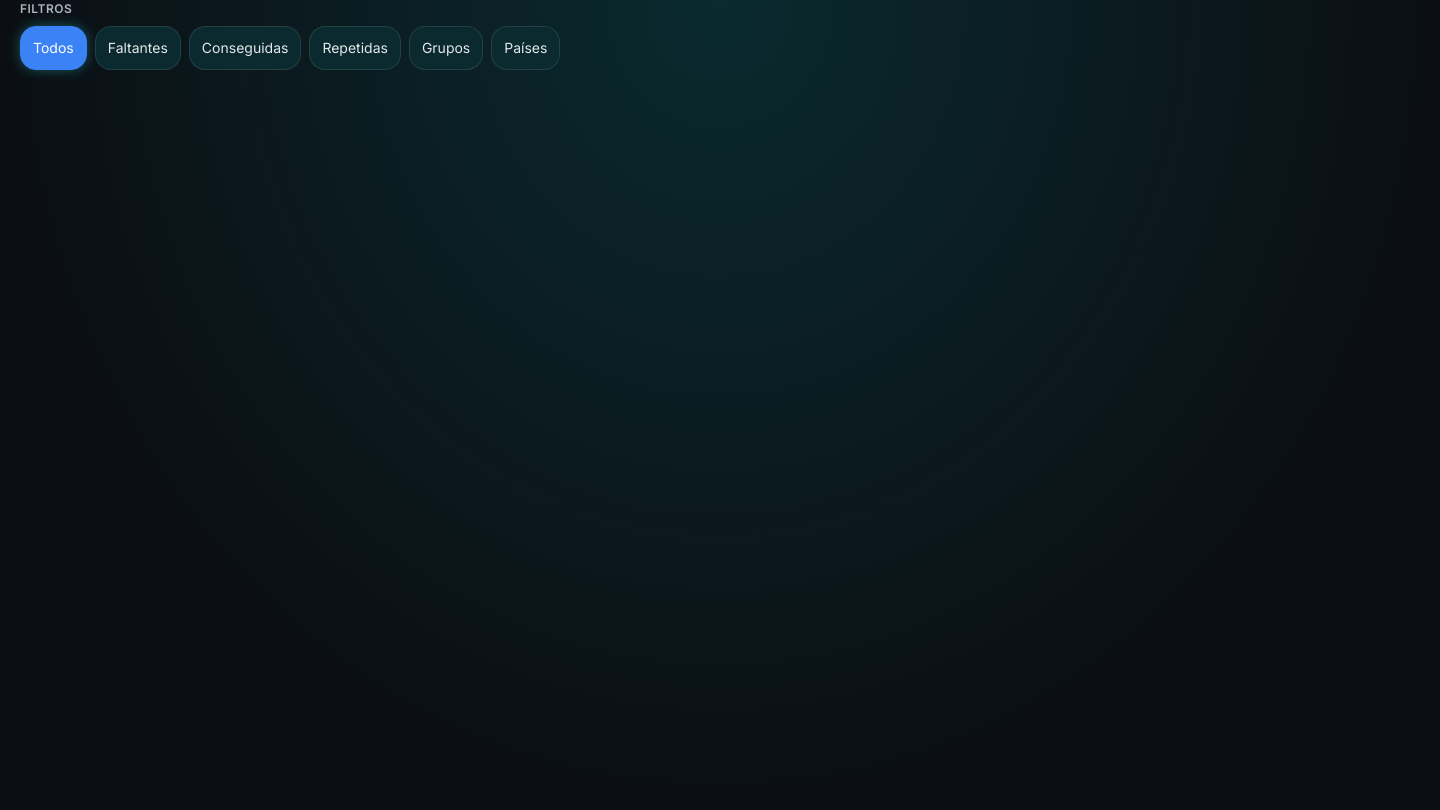
Scenario: FilterBar › opens the Grupos sheet from the Grupos chip
Step 1. Click the button "Grupos" → (446, 48), box [409,26,483,70]
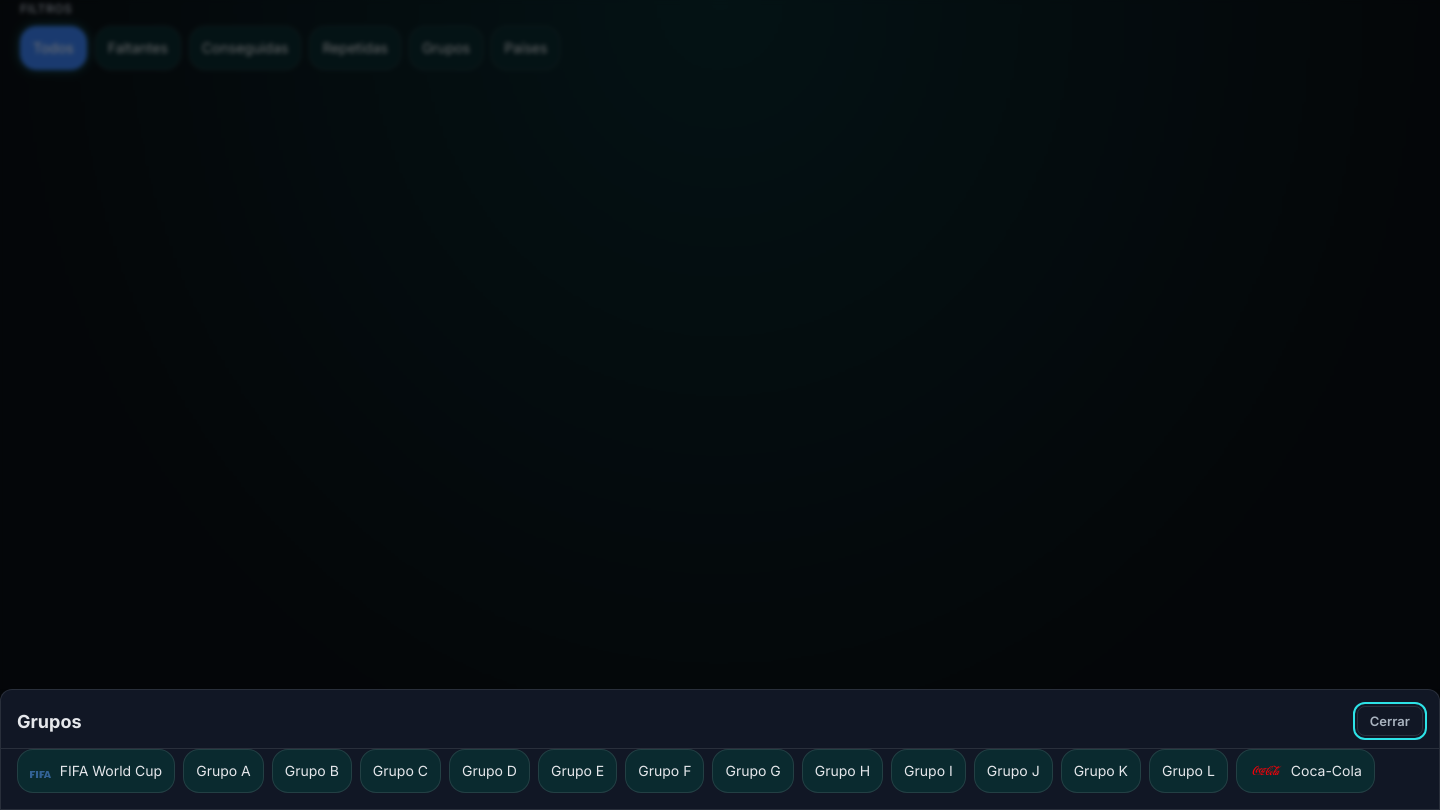
Result: the dialog "Grupos" is shown at [0,689,1439,809]
Result: the button "Grupo A" is shown at [183,749,264,793]
